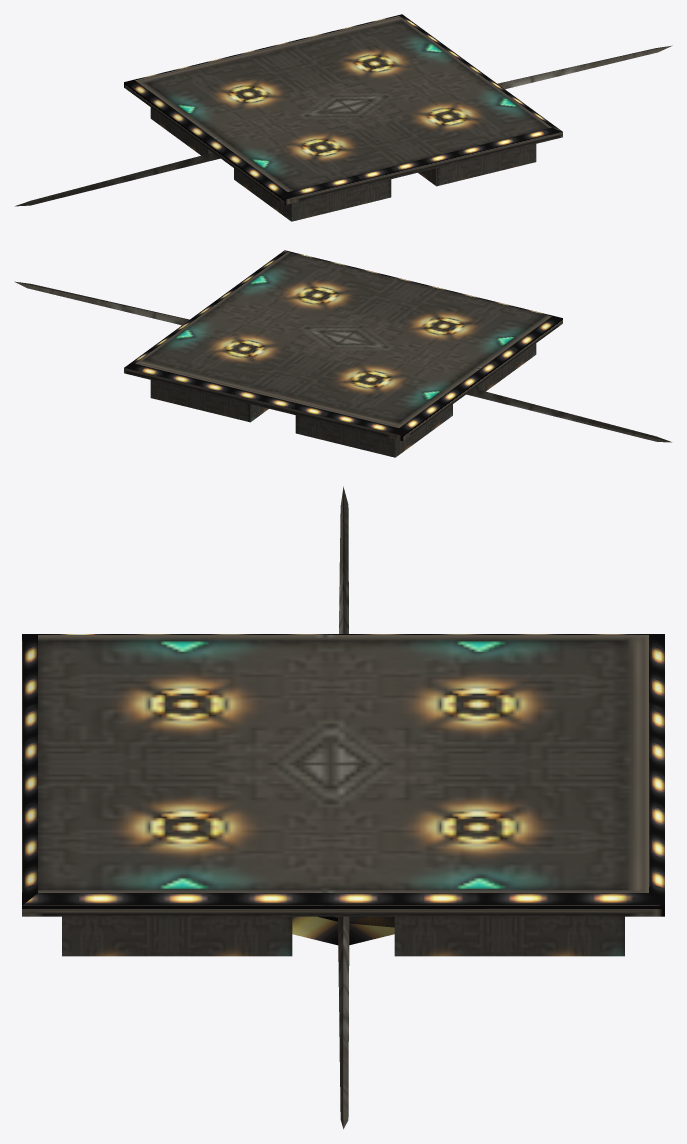
3 renders of one model, top to bottom at view 1: azimuth 30°, elevation 25°; view 2: azimuth 150°, elevation 25°; view 3: azimuth 270°, elevation 25°, orthographic. The views are drawn at different scales.
Parts seen in each view (by area): view 1: frm-fuselg, frm-fuselg3, frm-fuselg4, frm-lantenn, frm-rantenn, frm-bfuselg1; view 2: frm-fuselg, frm-bfuselg1, frm-bfuselg2, frm-lantenn, frm-rantenn, frm-fuselg3; view 3: frm-fuselg, frm-fuselg4, frm-bfuselg2, frm-bmfuselg, frm-rantenn, frm-lantenn.
Boxes of the visible parts, x1,y1,x2,y2 form: frm-fuselg: (124,14,562,204); frm-fuselg3: (234,168,391,221); frm-fuselg4: (418,144,536,186); frm-lantenn: (15,152,220,206); frm-rantenn: (497,45,672,89); frm-bfuselg1: (150,107,212,155); frm-fuselg: (124,250,562,440); frm-bfuselg1: (295,404,452,457); frm-bfuselg2: (150,380,268,422); frm-lantenn: (466,388,671,442); frm-rantenn: (14,281,189,325); frm-fuselg3: (474,343,536,391); frm-fuselg: (22,634,664,916); frm-fuselg4: (62,916,292,956); frm-bfuselg2: (394,916,624,956); frm-bmfuselg: (292,916,394,945); frm-rantenn: (338,916,349,1129); frm-lantenn: (339,486,348,633).
Size of what is drawn, in the model's own units: 50.2 by 5.48 by 21.21.
